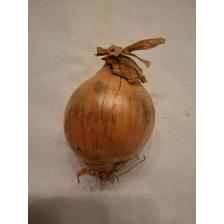Zwiebel: (62, 33, 168, 189)
